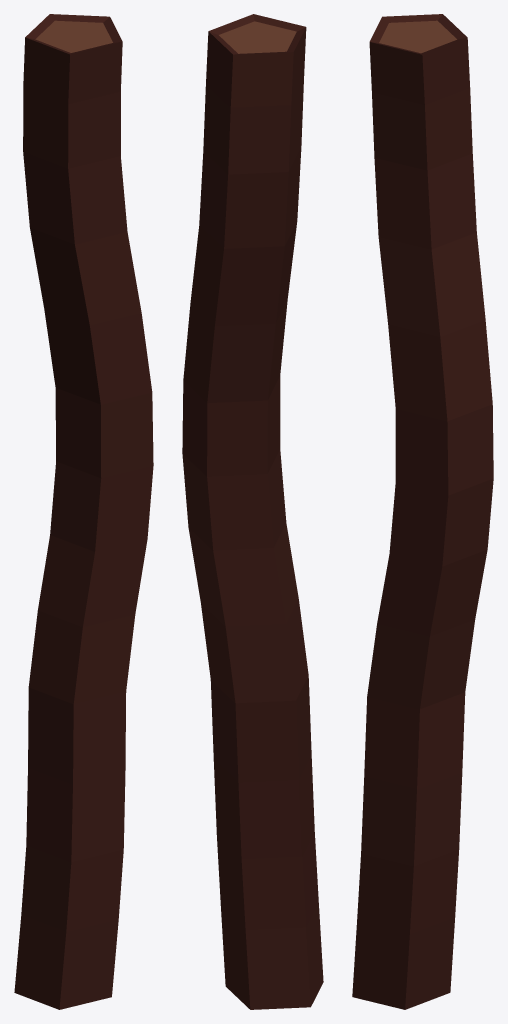
Rendered from Stick.fbx.
The picture shows the model from 3 angles, left to right: view 1: azimuth 30°, elevation 25°; view 2: azimuth 150°, elevation 25°; view 3: azimuth 330°, elevation 25°; orthographic projection.
Visible parts, largest first — view 1: Cylinder; view 2: Cylinder; view 3: Cylinder.
Boxes of the visible parts, bbox=[...] form: Cylinder: bbox=[14, 14, 153, 1009]; Cylinder: bbox=[182, 14, 323, 1009]; Cylinder: bbox=[352, 14, 493, 1009].
Size of the model in its own units: 57.01 by 407 by 42.58.
